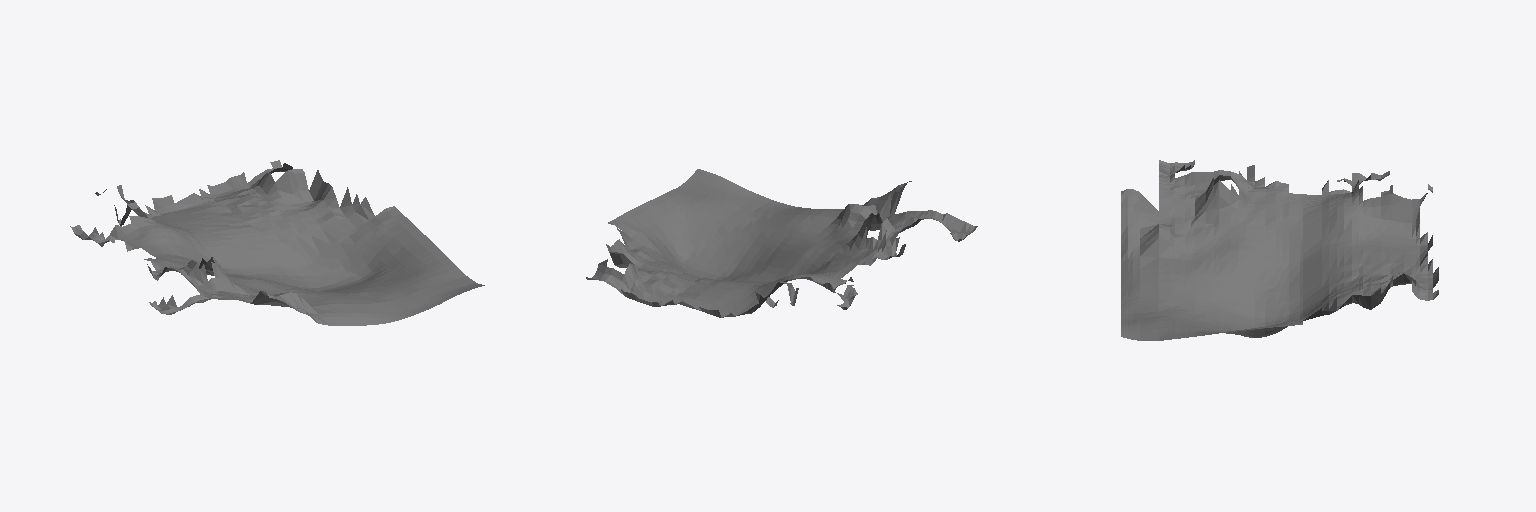
File: TerrainBottomMesh.obj
3 renders of one model, left to right at view 1: azimuth 30°, elevation 25°; view 2: azimuth 150°, elevation 25°; view 3: azimuth 270°, elevation 25°, orthographic.
Parts seen in each view (by area): view 1: EnvTerrain:Mesh; view 2: EnvTerrain:Mesh; view 3: EnvTerrain:Mesh.
Boxes of the visible parts, box(x1,y1,x2,y2) form: EnvTerrain:Mesh: box(70, 160, 484, 325); EnvTerrain:Mesh: box(586, 169, 977, 317); EnvTerrain:Mesh: box(1121, 160, 1438, 340).
Bounding box in the file's own units: 876 × 221 × 806.